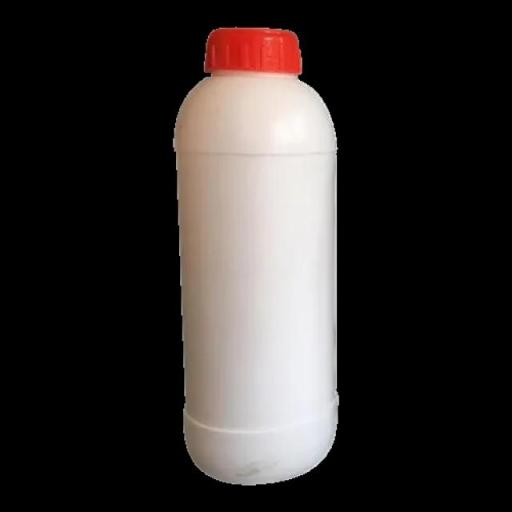plastic: (168, 22, 350, 492)
